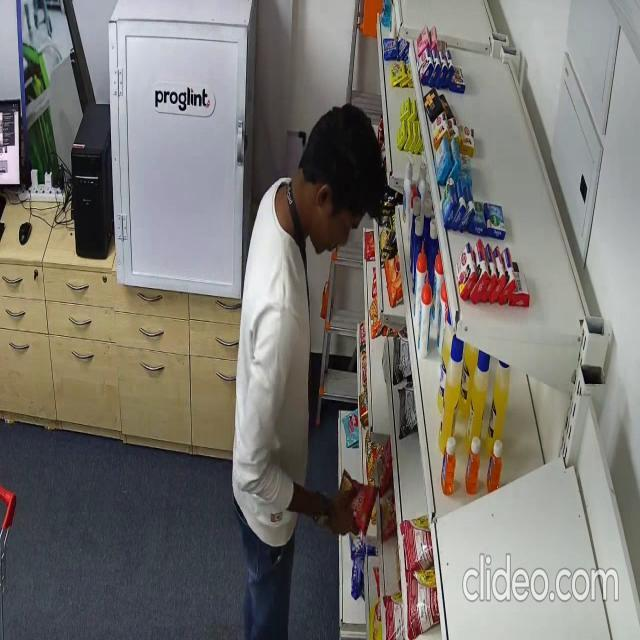normal: (228, 96, 388, 640)
